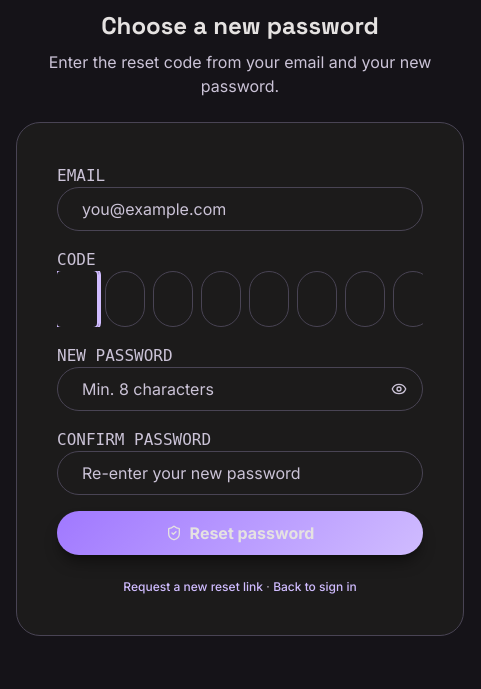
Test: ResetPasswordPage › password validation › rejects empty code
In the field labelled "Email": (240, 209) 57,187 -> 423,231, type "test@example.com"
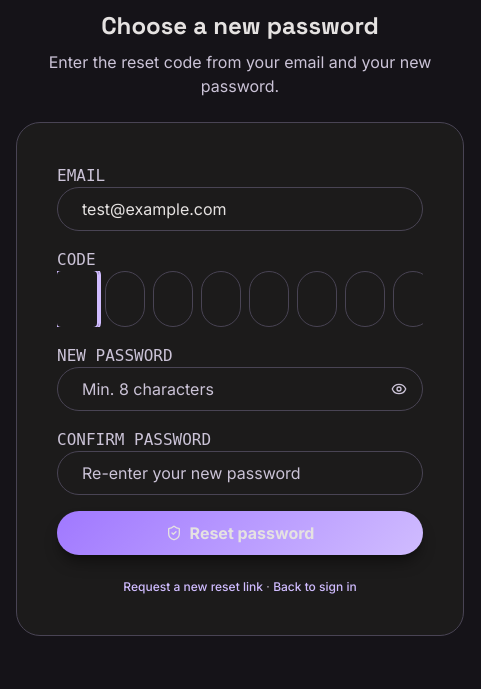
Click the button "Reset password": click(240, 533) 57,511 -> 423,555
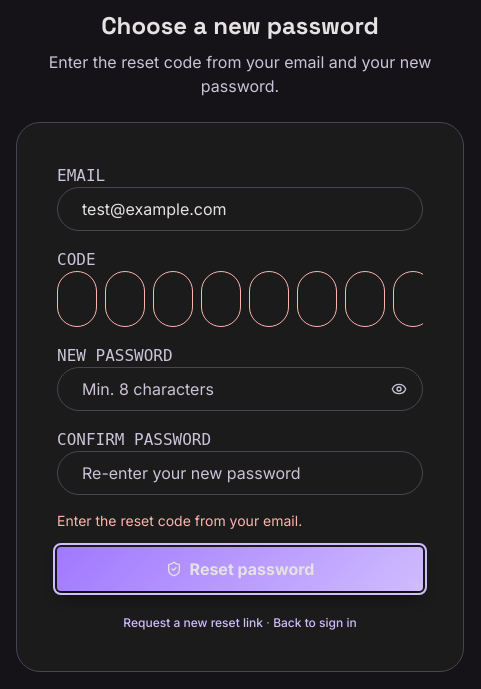
expect the message shows "Enter the reset code": met, box 57,512 -> 302,529
